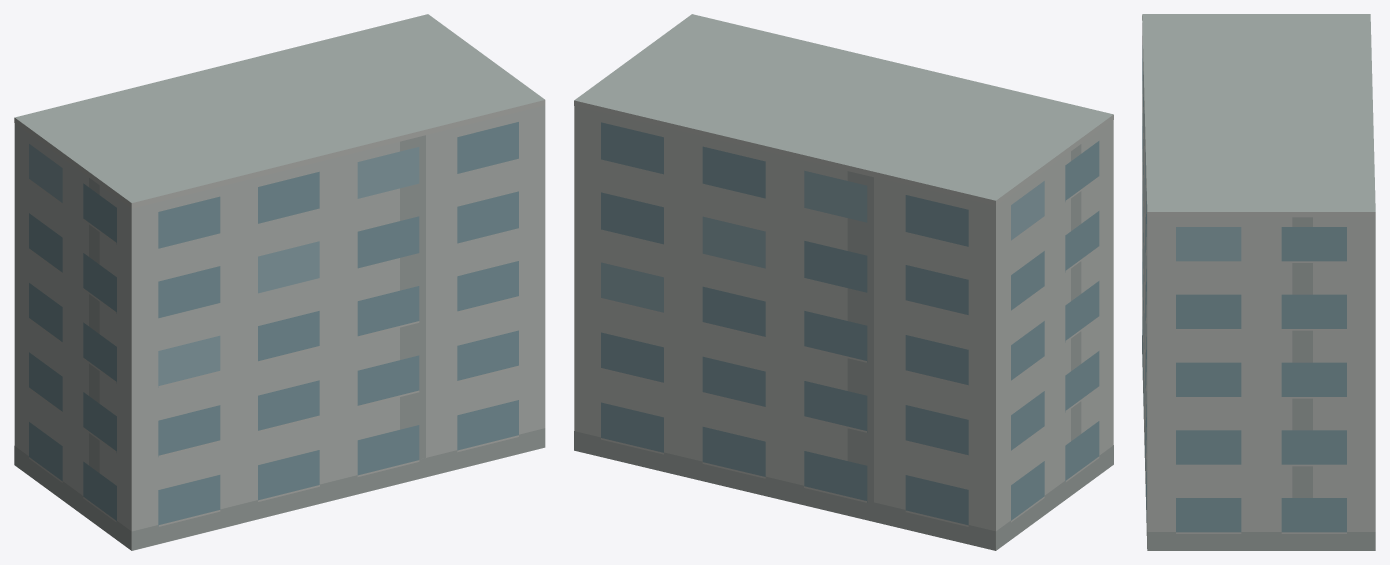
Rendered from survey-upis-32809352.glb.
3 views of the same model, side by side, from view 1: azimuth 30°, elevation 25°; view 2: azimuth 150°, elevation 25°; view 3: azimuth 270°, elevation 25° (orthographic). The views are drawn at different scales.
Parts seen in each view (by area): view 1: survey-upis-32809352.tmp; view 2: survey-upis-32809352.tmp; view 3: survey-upis-32809352.tmp.
Part boxes in pixels (x1,y1,x2,y2): survey-upis-32809352.tmp: (14, 14, 545, 550); survey-upis-32809352.tmp: (574, 14, 1113, 550); survey-upis-32809352.tmp: (1142, 14, 1375, 550).
Bounding box in the file's own units: 19.13 × 15.25 × 9.53.
